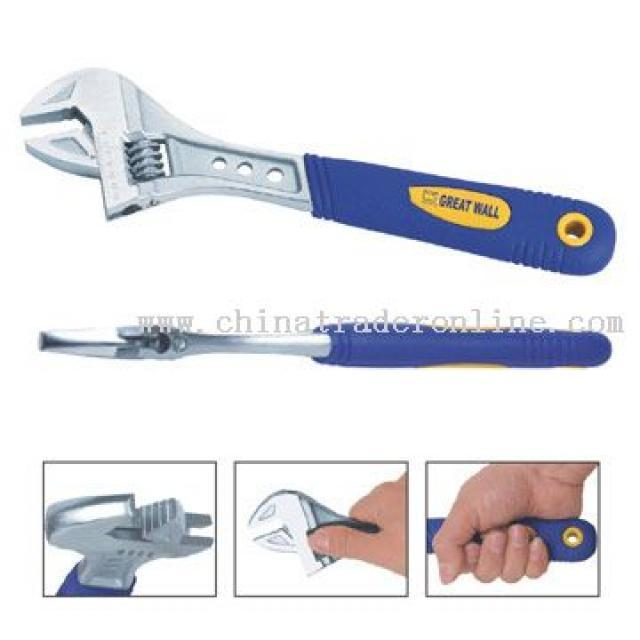wrench: (241, 482, 407, 576)
